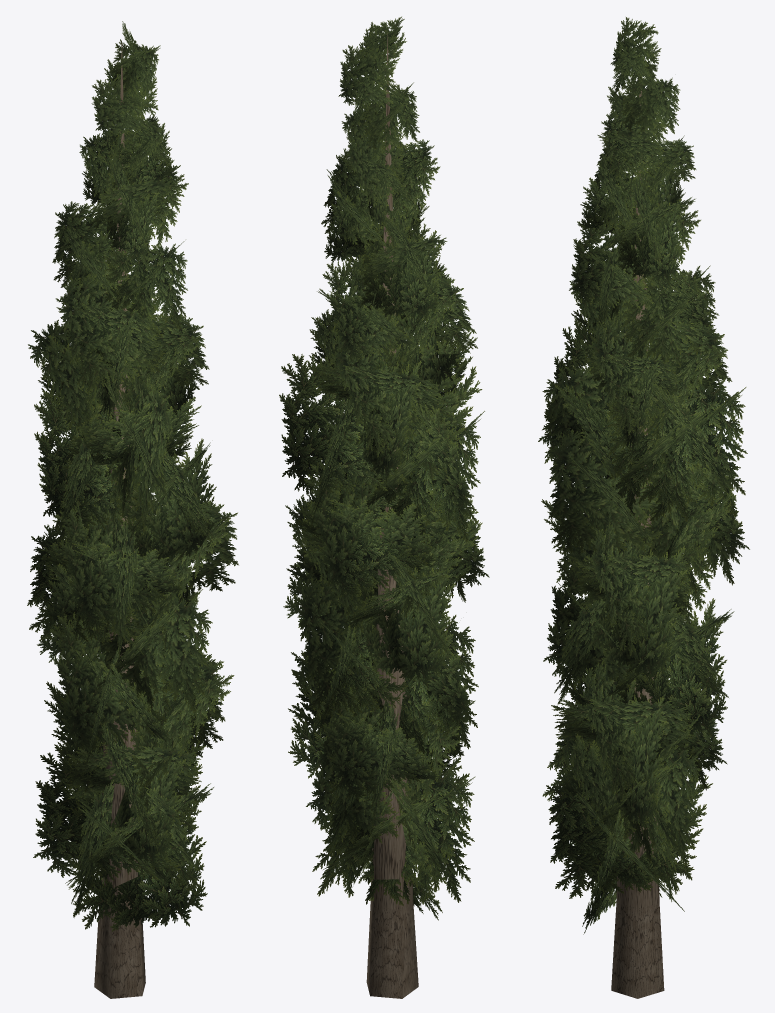
File: cypress.glb
3 views of the same model, side by side, from view 1: azimuth 30°, elevation 25°; view 2: azimuth 150°, elevation 25°; view 3: azimuth 270°, elevation 25° (orthographic).
Visible parts, largest first — view 1: cypress_foliage, cypress_wood; view 2: cypress_foliage, cypress_wood; view 3: cypress_foliage, cypress_wood.
Boxes of the visible parts, x1=… form: cypress_foliage: x1=27, y1=21, x2=238, y2=931; cypress_wood: x1=94, y1=41, x2=145, y2=998; cypress_foliage: x1=279, y1=16, x2=489, y2=920; cypress_wood: x1=366, y1=33, x2=418, y2=998; cypress_foliage: x1=538, y1=17, x2=749, y2=934; cypress_wood: x1=611, y1=84, x2=664, y2=998.
Size of the model in its own units: 2.06 by 9.07 by 1.98.
Materials: 2 (2 with a texture image).
